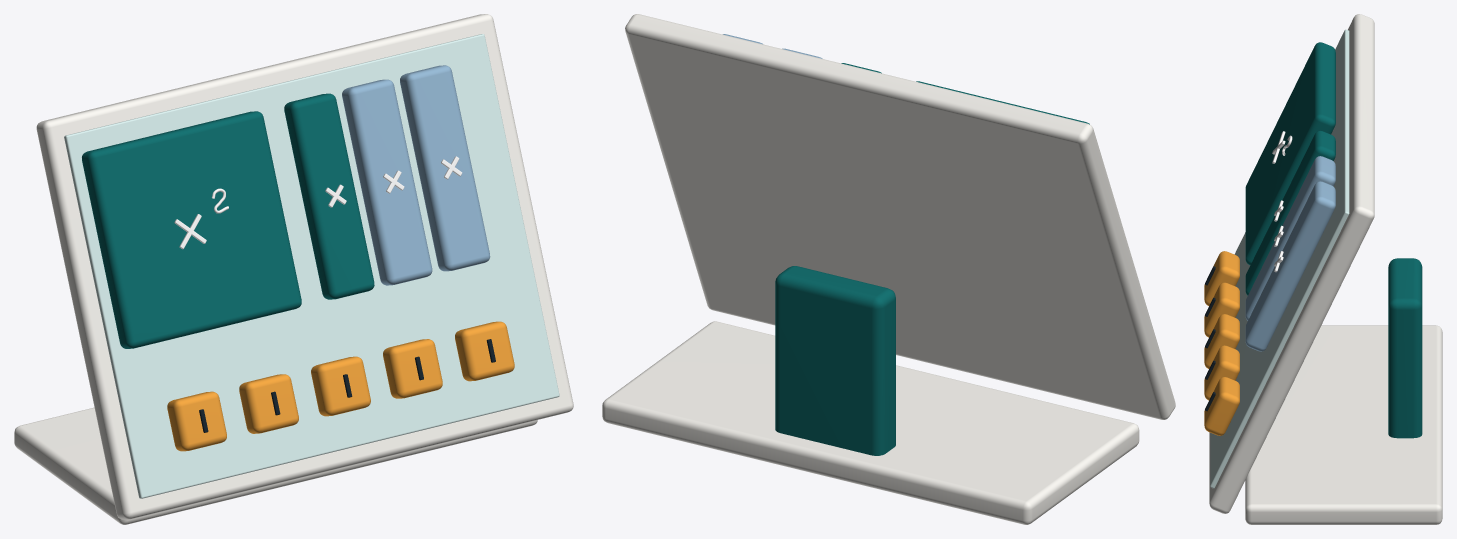
The model's file is algebra-kit.glb.
3 views of the same model, side by side, from view 1: azimuth 30°, elevation 25°; view 2: azimuth 150°, elevation 25°; view 3: azimuth 270°, elevation 25° (orthographic). The views are drawn at different scales.
Parts seen in each view (by area): view 1: Recessed mint surface, Square x squared, Rounded learning tray, Equal x rod 1, Equal x rod 2, Equal x rod 3, Stable low plinth, Unit square 3, Unit square 2, Unit square 4, Unit square 1, Unit square 5; view 2: Rounded learning tray, Stable low plinth, Rear support; view 3: Stable low plinth, Rounded learning tray, Recessed mint surface, Square x squared, Rear support, Equal x rod 3, Equal x rod 1, Equal x rod 2, Unit square 5, Unit square 2, Unit square 1, Unit square 3 (+1 smaller).
Boxes of the visible parts, x1,y1,x2,y2 form: Recessed mint surface: [64, 34, 559, 498]; Square x squared: [82, 111, 301, 348]; Rounded learning tray: [36, 14, 573, 519]; Equal x rod 1: [284, 93, 374, 299]; Equal x rod 2: [342, 79, 432, 285]; Equal x rod 3: [400, 65, 490, 271]; Stable low plinth: [14, 407, 537, 524]; Unit square 3: [311, 356, 370, 416]; Unit square 2: [239, 374, 298, 433]; Unit square 4: [383, 339, 442, 398]; Unit square 1: [167, 391, 226, 451]; Unit square 5: [455, 321, 514, 381]; Rounded learning tray: [625, 14, 1175, 419]; Stable low plinth: [602, 321, 1139, 524]; Rear support: [775, 266, 895, 455]; Stable low plinth: [1245, 325, 1442, 524]; Rounded learning tray: [1209, 14, 1374, 513]; Recessed mint surface: [1210, 29, 1349, 488]; Square x squared: [1245, 42, 1335, 265]; Rear support: [1388, 258, 1422, 438]; Equal x rod 3: [1245, 181, 1335, 351]; Equal x rod 1: [1245, 130, 1335, 295]; Equal x rod 2: [1245, 156, 1335, 320]; Unit square 5: [1204, 377, 1239, 435]; Unit square 2: [1204, 282, 1239, 337]; Unit square 1: [1204, 251, 1239, 305]; Unit square 3: [1204, 314, 1239, 368].
Size of the model in its own units: 2.88 by 2.22 by 1.47.
